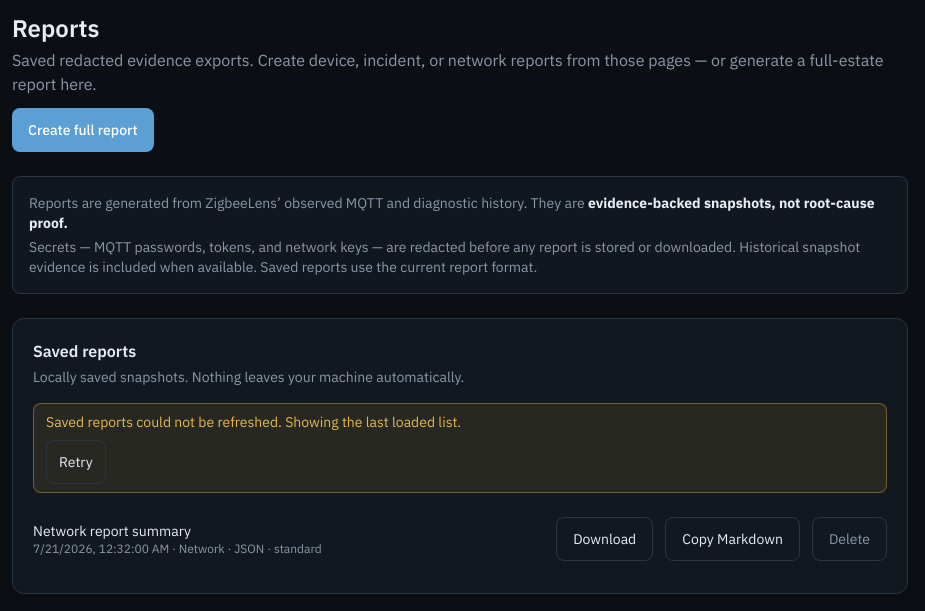
ReportsPage saved history › keeps saved rows visible when a background refresh fails
This screenshot has width=925, height=611.
Expected: the text "Network report summary" is shown, [33,522,191,540]
Expected: the text "Saved reports could not be refreshed. Showing the last loaded list." is shown, [46,413,461,431]
What coordinates should you click on to do the following:
click the button "Retry"
I would click on:
 (76, 462)
Its box is [46,440,106,484].
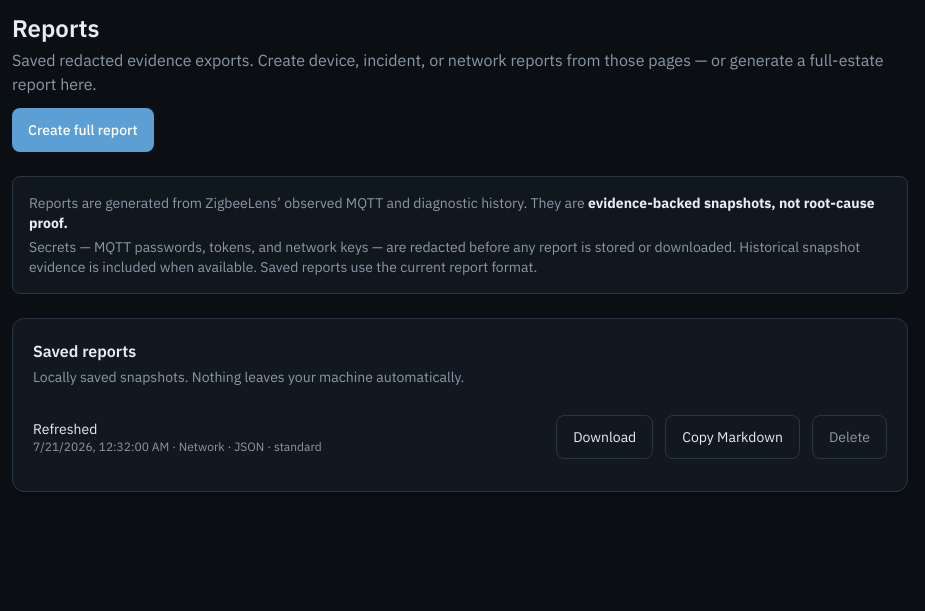
Expected: the text "Refreshed" is shown, [33,420,97,438]
Expected: the text "Saved reports could not be refreshed. Showing the last loaded list." is gone
